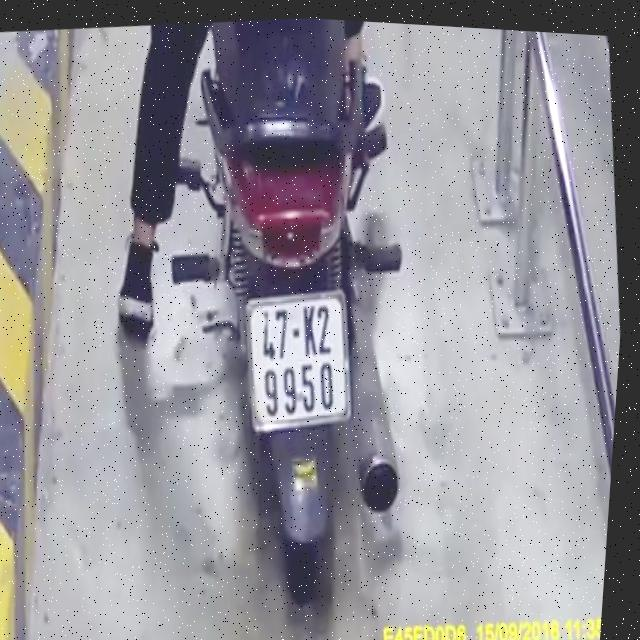motorcycle: (146, 14, 461, 630)
plate: (230, 283, 364, 442)
